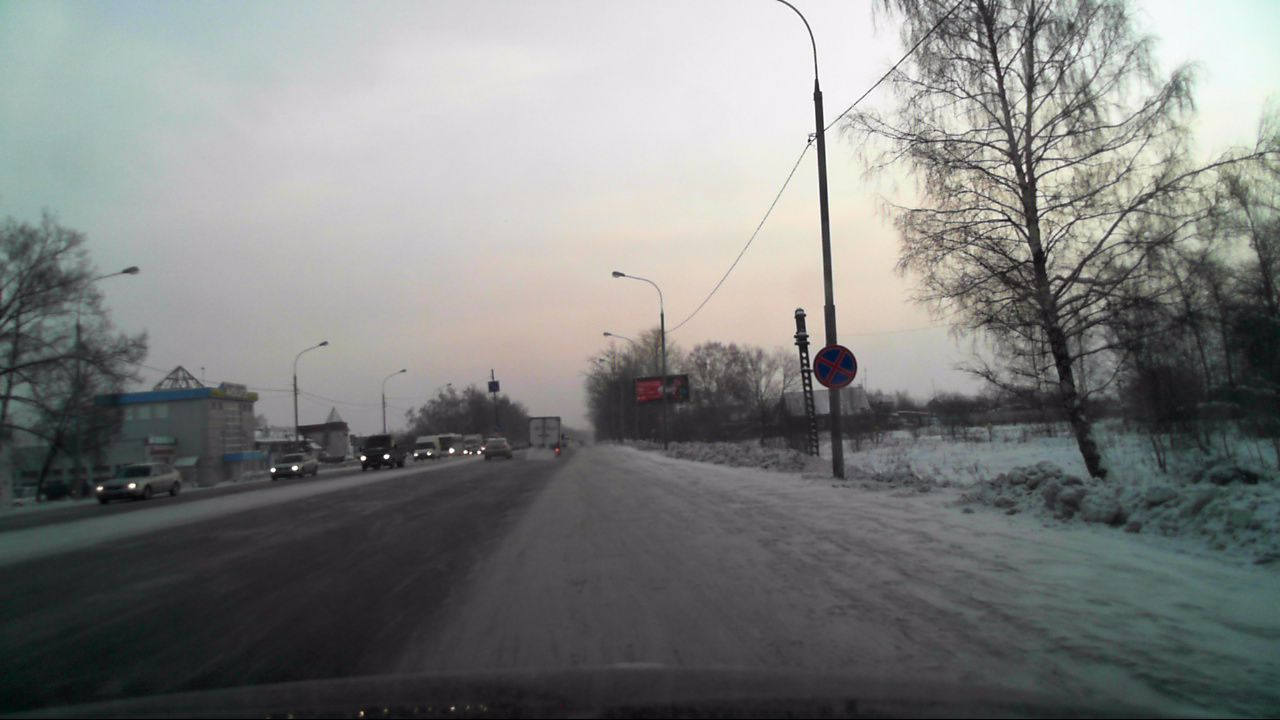No Parking: (811, 344, 856, 390)
